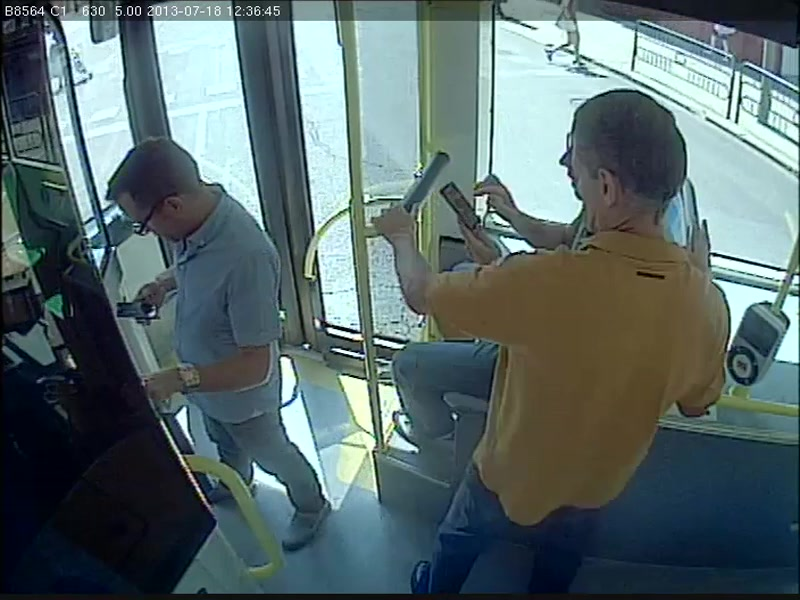Head: (568, 86, 704, 242), (104, 137, 216, 246)
